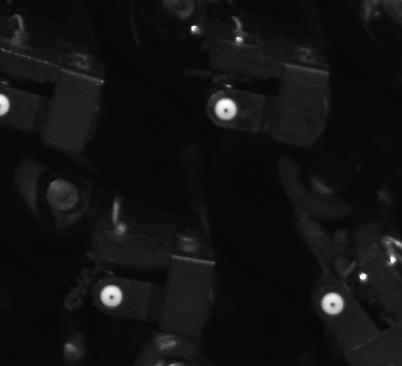fiber: (95, 280, 133, 312), (209, 91, 243, 125), (315, 289, 349, 320), (1, 88, 14, 122)
